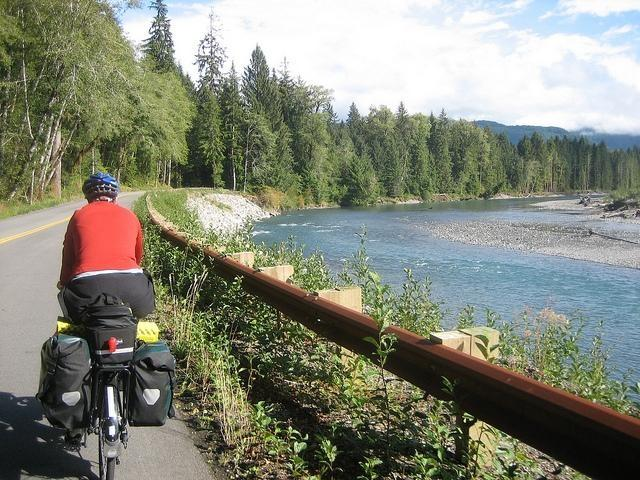bicycle: (82, 361, 132, 480)
